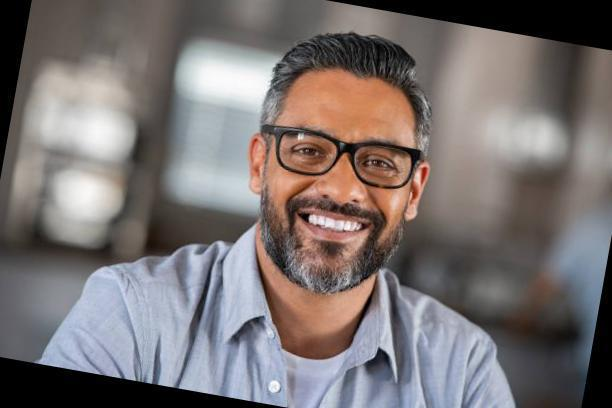Sober: (281, 84, 402, 281)
